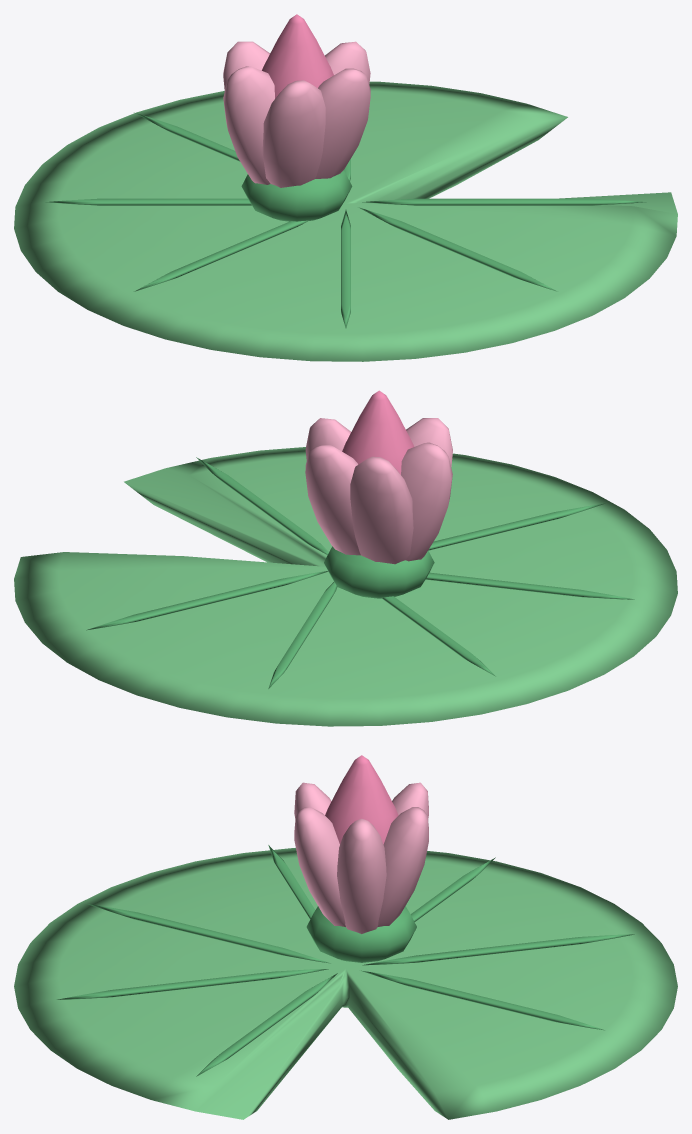
The model's file is lilypad.glb.
3 views of the same model, one above another, from view 1: azimuth 30°, elevation 25°; view 2: azimuth 150°, elevation 25°; view 3: azimuth 270°, elevation 25° (orthographic).
Parts seen in each view (by area): view 1: lilypad; view 2: lilypad; view 3: lilypad.
Part boxes in pixels (<box>): lilypad: <box>14,14,677,361</box>; lilypad: <box>14,390,677,726</box>; lilypad: <box>14,755,677,1119</box>.
Size of the model in its own units: 0.8194 by 0.32 by 0.84.
1 material, 1 textured.
